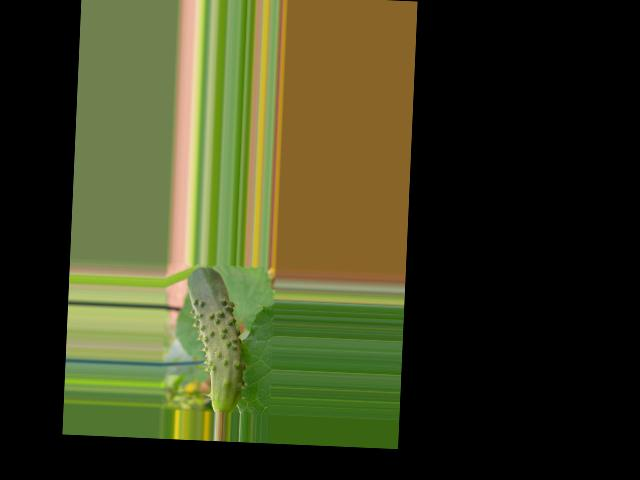cucumber: (182, 265, 250, 413)
